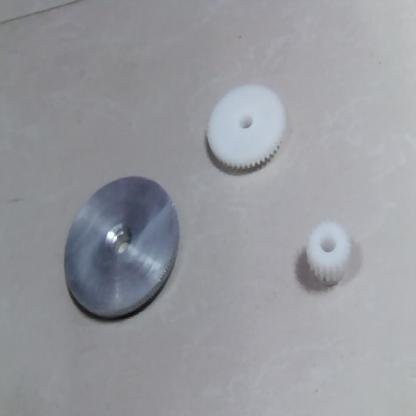FOD: (61, 169, 183, 328), (195, 85, 292, 178), (302, 220, 352, 295)
